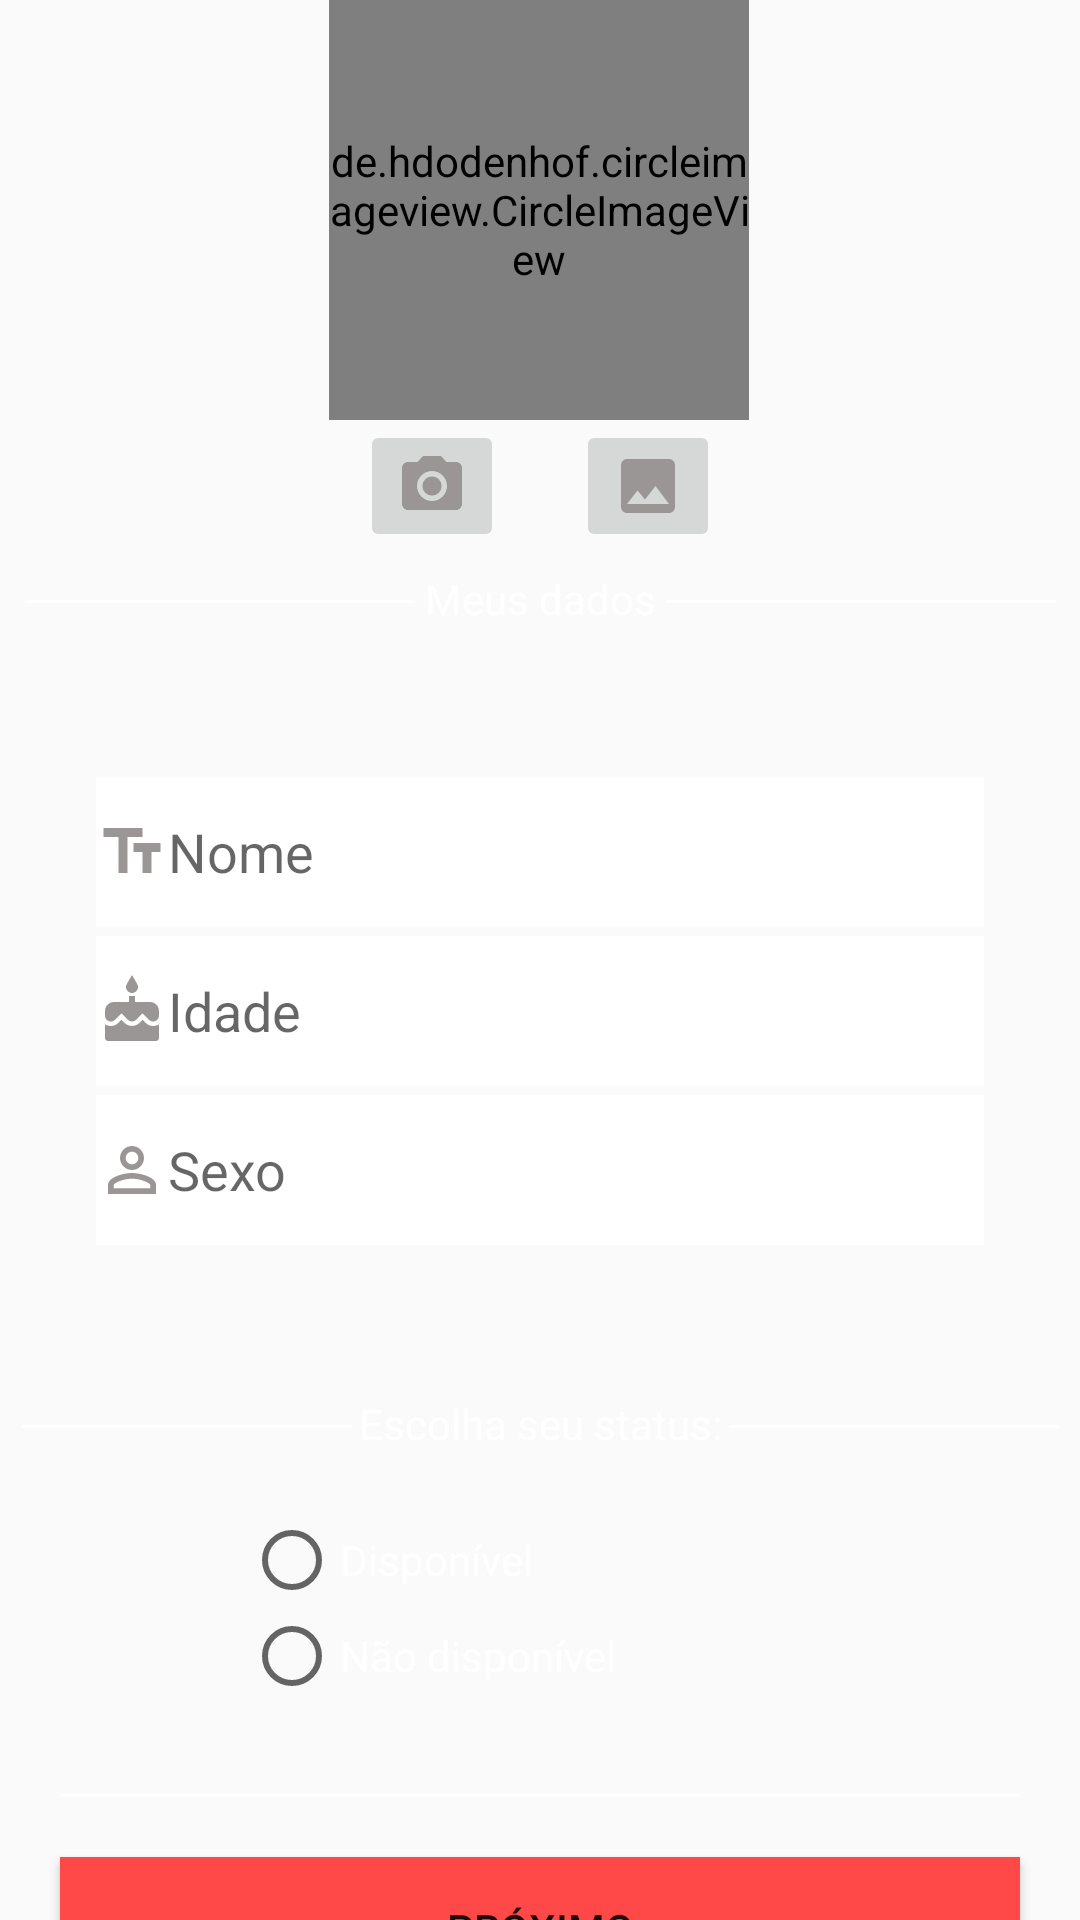

Screen size 1080w x 1920h. Icon name, then its center in pixels as point (x, y):
photo camera: point (432, 486)
